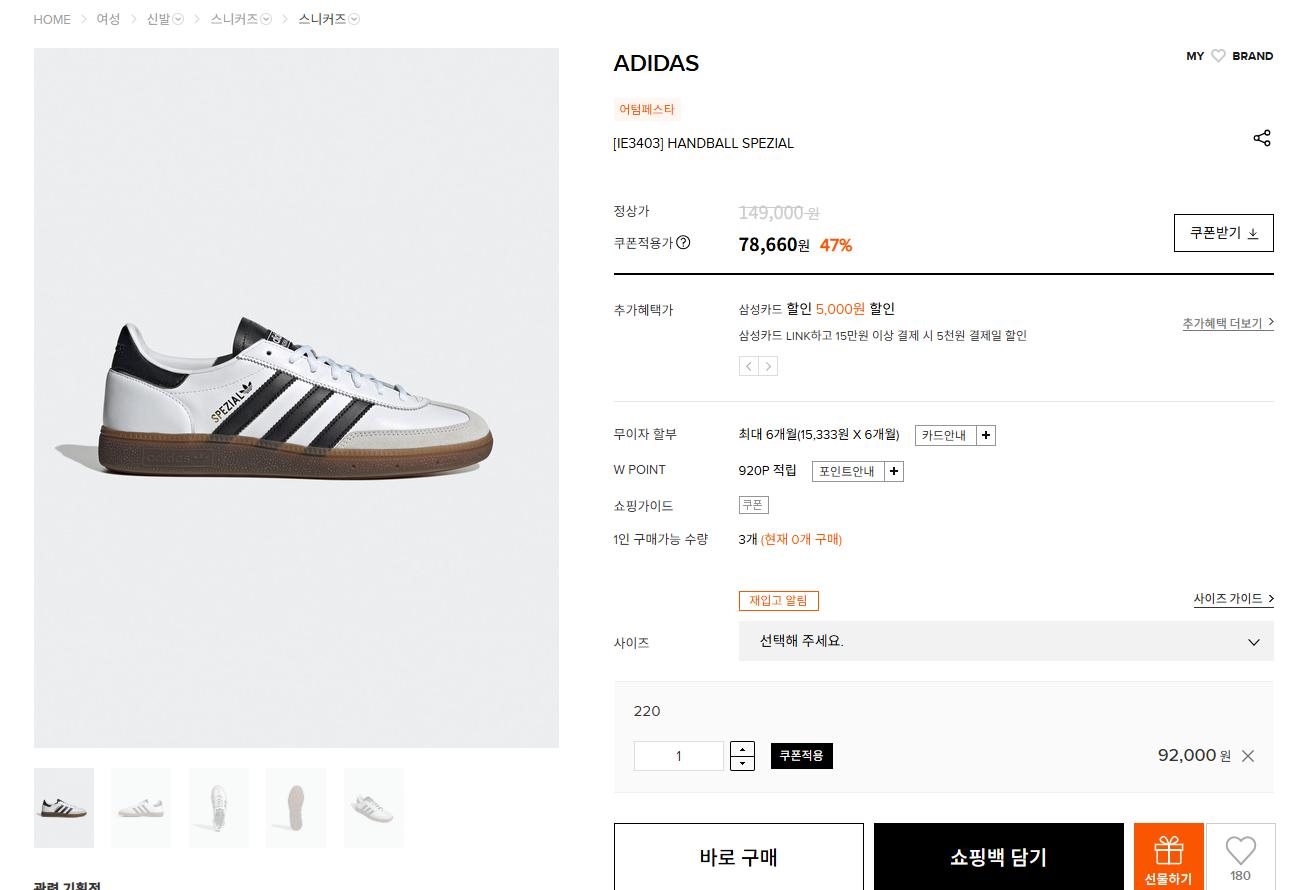button: (609, 823, 865, 890), (875, 823, 1125, 890), (340, 768, 403, 850), (34, 771, 94, 848), (267, 770, 323, 852), (1208, 818, 1271, 890), (111, 771, 170, 847), (1136, 822, 1201, 890), (191, 772, 243, 848), (1178, 308, 1277, 334), (1191, 586, 1282, 610), (815, 461, 905, 483), (914, 422, 996, 445), (739, 589, 820, 612), (773, 743, 836, 770), (1248, 125, 1279, 151), (732, 741, 755, 770), (742, 357, 775, 376), (1239, 741, 1260, 767)
checkbox: (738, 621, 1270, 661)
